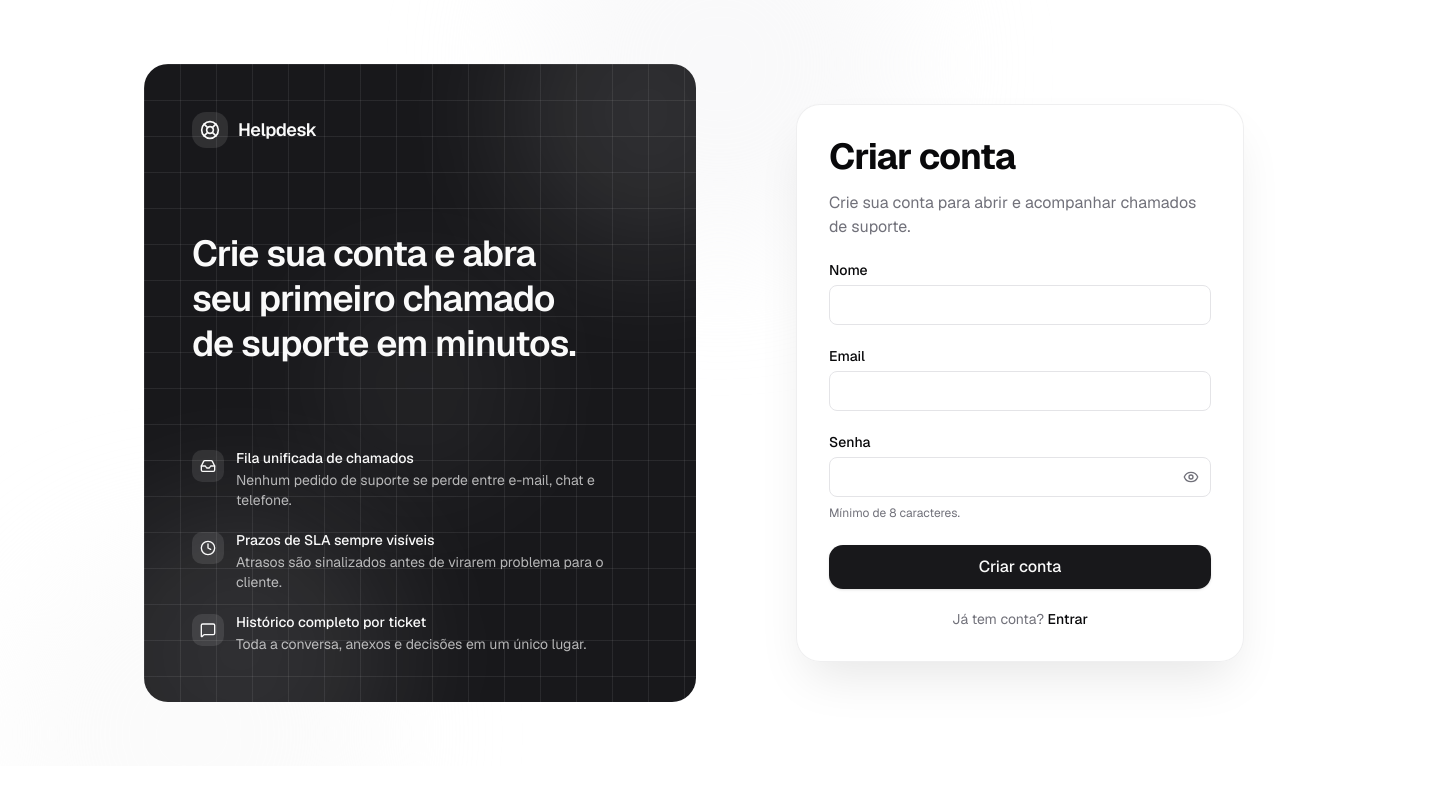
Test: RegistroPage (SPEC-05) › exibe erro quando o email já está cadastrado (409)
In the field labelled "Nome": (1020, 305) 829,285 -> 1211,325, type "Novo Cliente"
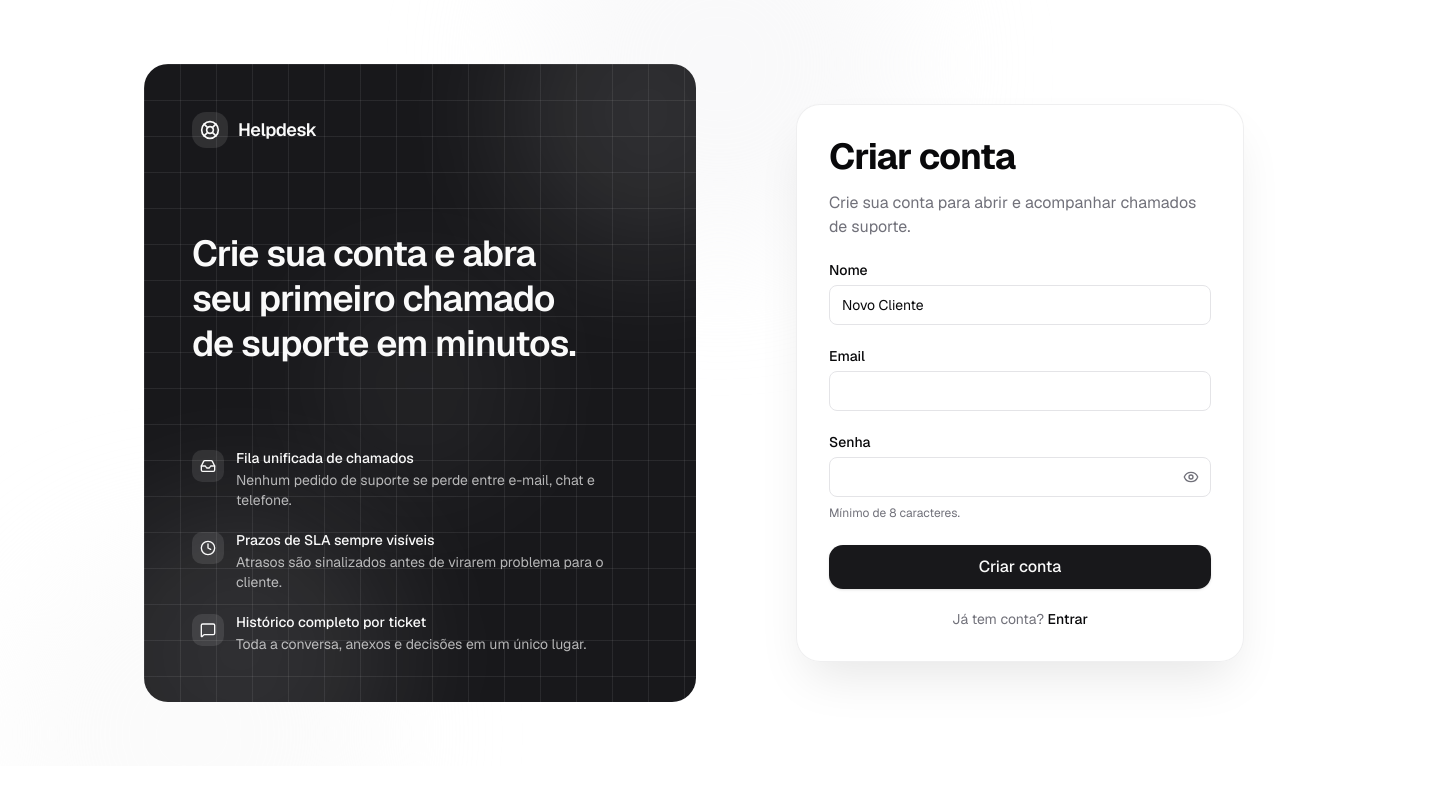
In the field labelled "Email": (1020, 391) 829,371 -> 1211,411, type "novo@example.com"
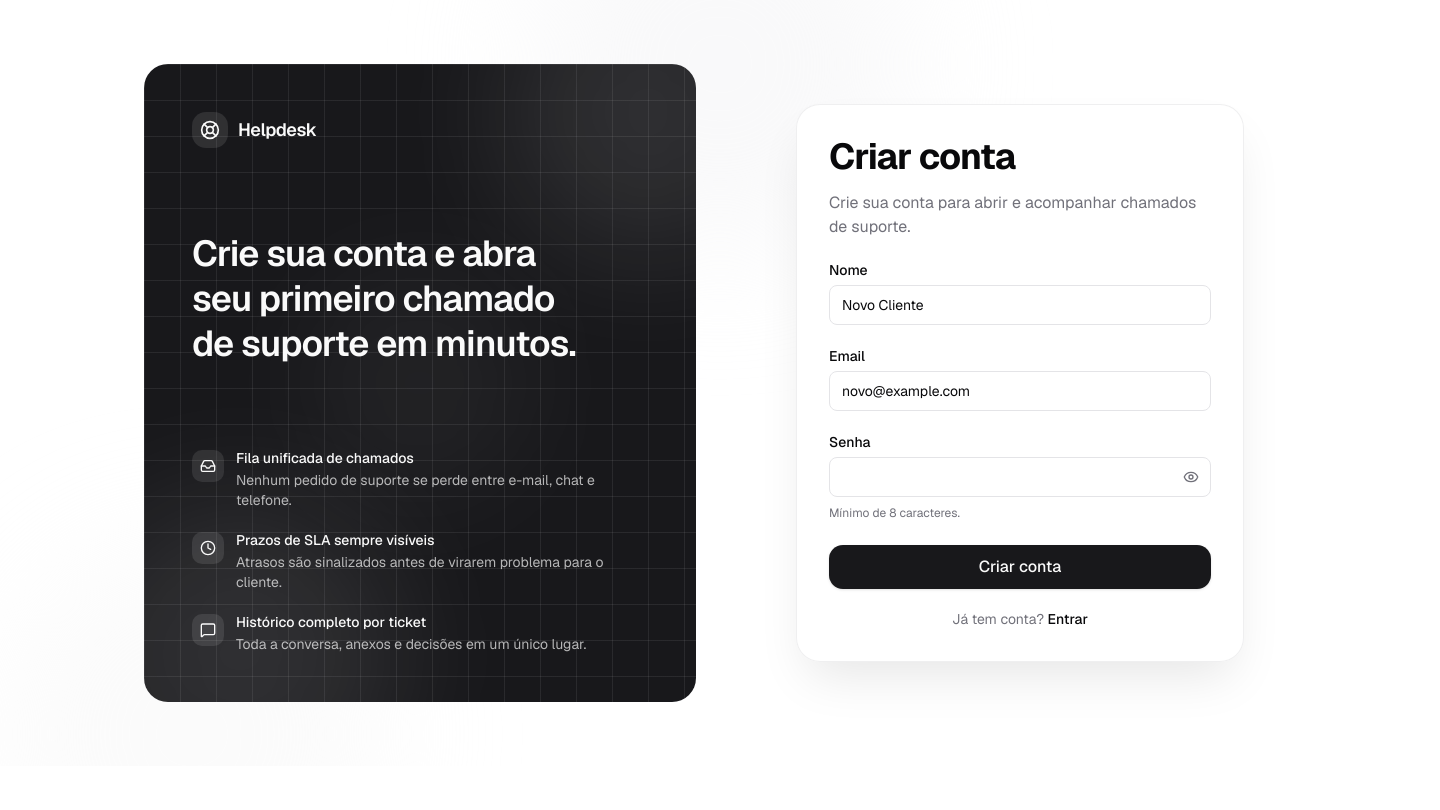
In the password field labelled "Senha": (1020, 477) 829,457 -> 1211,497, type "senha-forte-123"
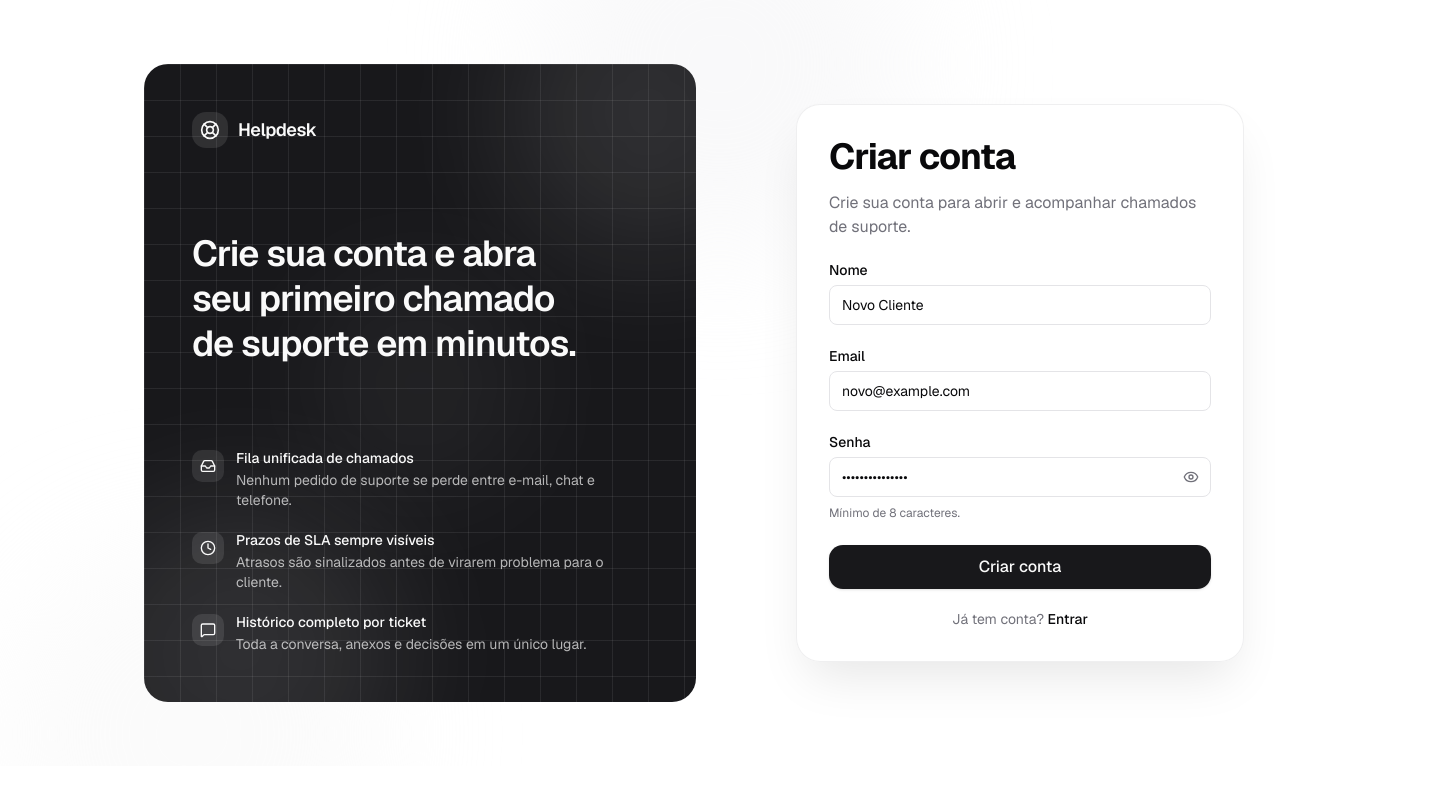
Click the button "Criar conta": (1020, 567) 829,545 -> 1211,589
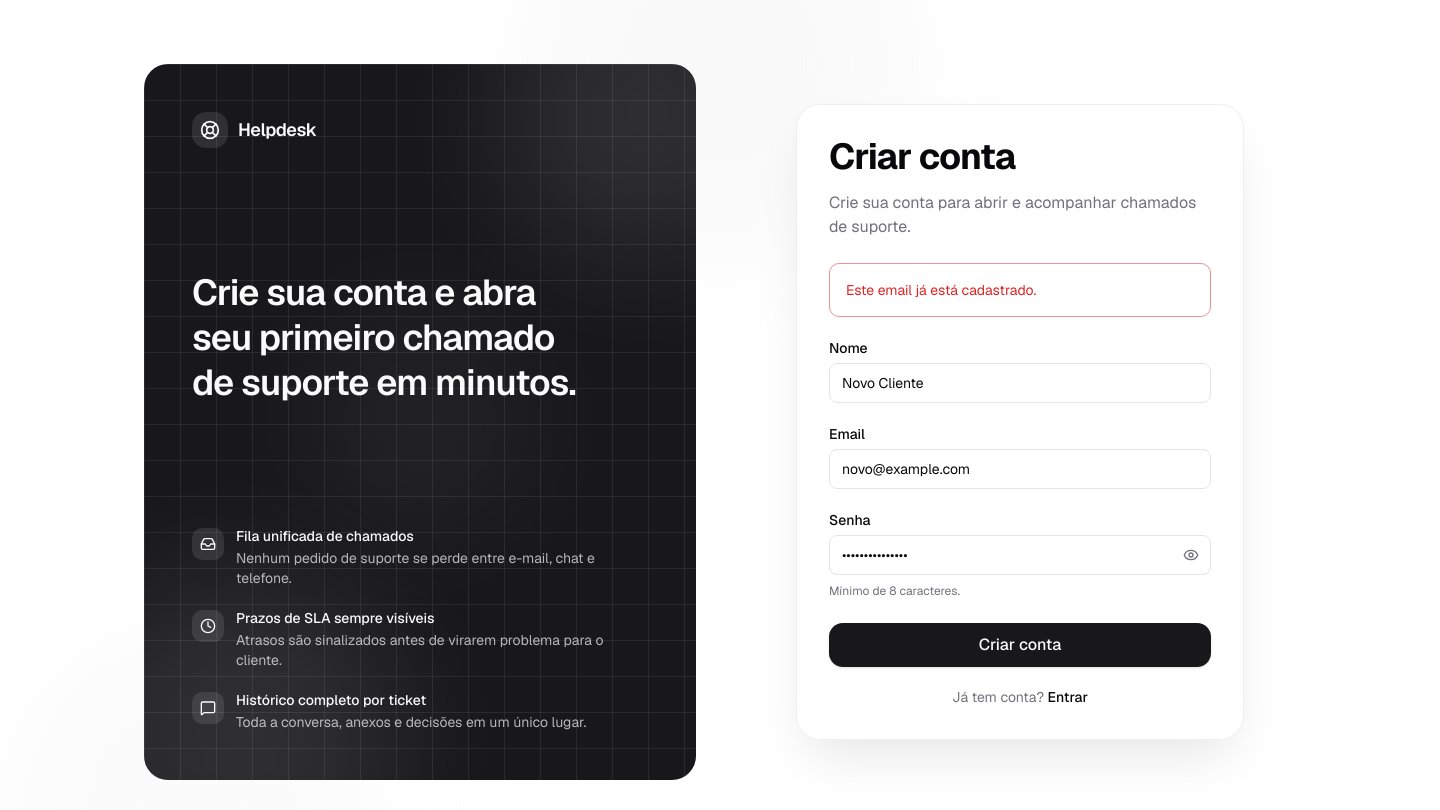
Expected: the message shows "já está cadastrado", 846,281 -> 1036,299
